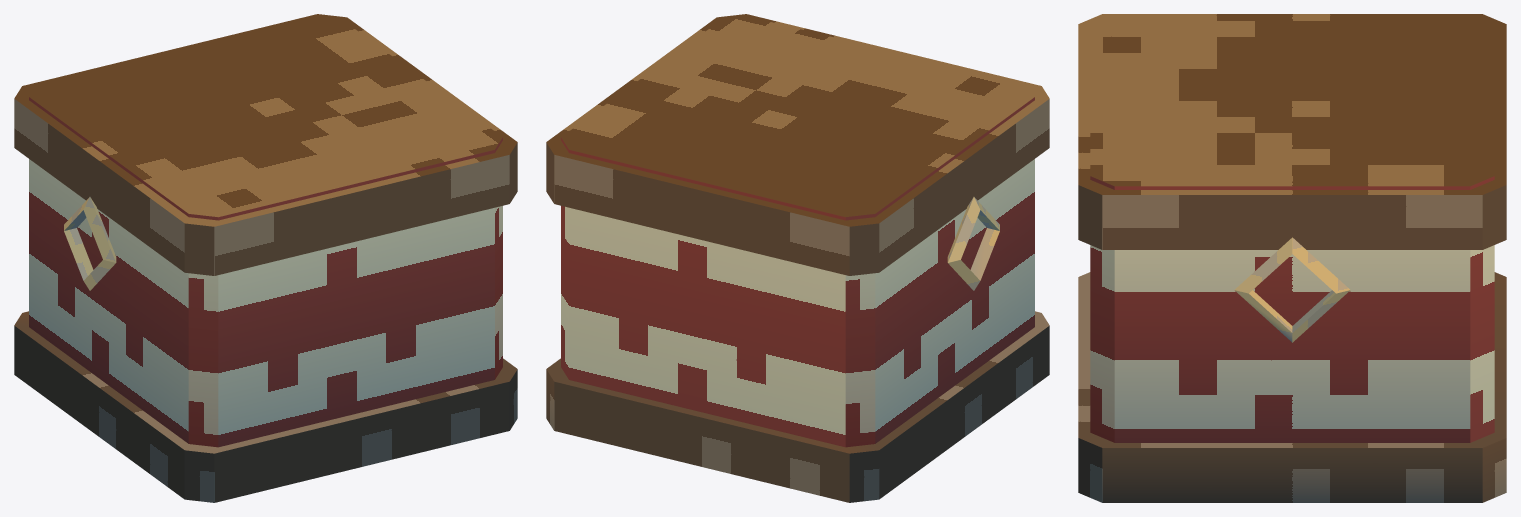
Rendered from wprop.crate__powder.glb.
The picture shows the model from 3 angles, left to right: view 1: azimuth 30°, elevation 25°; view 2: azimuth 150°, elevation 25°; view 3: azimuth 270°, elevation 25°; orthographic projection. The views are drawn at different scales.
Parts seen in each view (by area): view 1: kit_box, kit_edges, kit_handles; view 2: kit_box, kit_edges, kit_handles; view 3: kit_box, kit_edges, kit_handles.
Boxes of the visible parts, bbox=[...] form: kit_box: bbox=[29, 17, 502, 447]; kit_edges: bbox=[14, 14, 517, 502]; kit_handles: bbox=[64, 197, 116, 290]; kit_box: bbox=[561, 17, 1034, 447]; kit_edges: bbox=[546, 14, 1049, 502]; kit_handles: bbox=[947, 197, 999, 290]; kit_box: bbox=[1090, 15, 1494, 442]; kit_edges: bbox=[1078, 14, 1506, 502]; kit_handles: bbox=[1234, 237, 1350, 342].
Size of the model in its own units: 0.5808 by 0.425 by 0.53.
3 materials, 3 textured.
